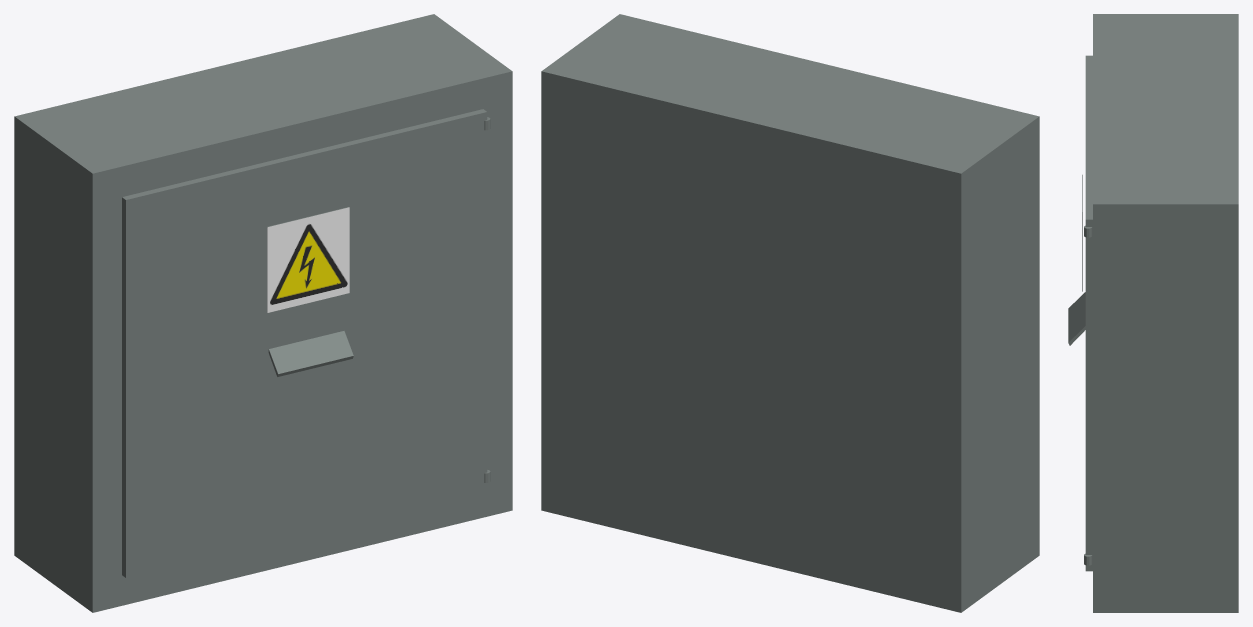
The model's file is container 1_21 -distribution box.glb.
The picture shows the model from 3 angles, left to right: view 1: azimuth 30°, elevation 25°; view 2: azimuth 150°, elevation 25°; view 3: azimuth 270°, elevation 25°; orthographic projection. The views are drawn at different scales.
Visible parts, largest first — view 1: Distribution box - door, Distribution box; view 2: Distribution box; view 3: Distribution box, Distribution box - door.
Part boxes in pixels (left/top/right/bottom): Distribution box - door: left=122, top=109, right=487, bottom=577; Distribution box: left=14, top=14, right=512, bottom=612; Distribution box: left=541, top=14, right=1039, bottom=612; Distribution box: left=1084, top=14, right=1238, bottom=612; Distribution box - door: left=1068, top=55, right=1092, bottom=571.
Size of the model in its own units: 0.6896 by 0.6896 by 0.2607.
2 materials, 1 textured.
